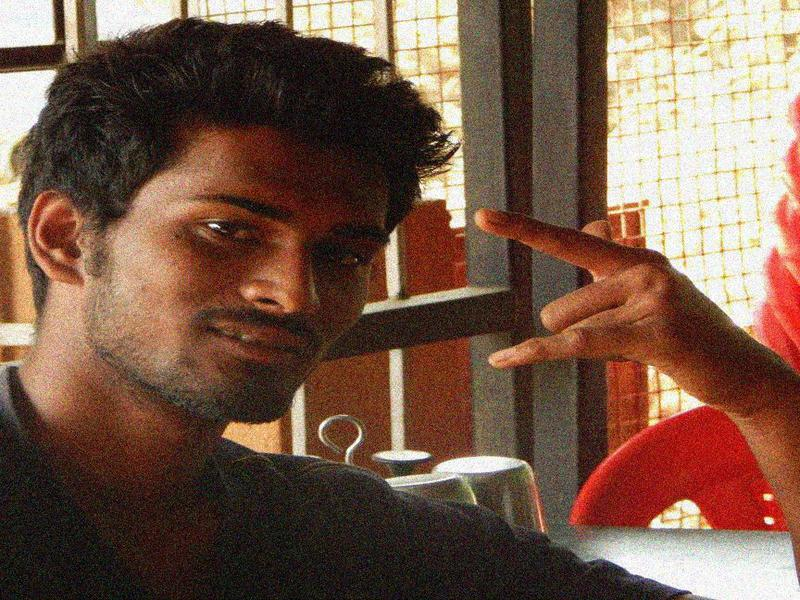without_mask: (93, 121, 391, 427)
